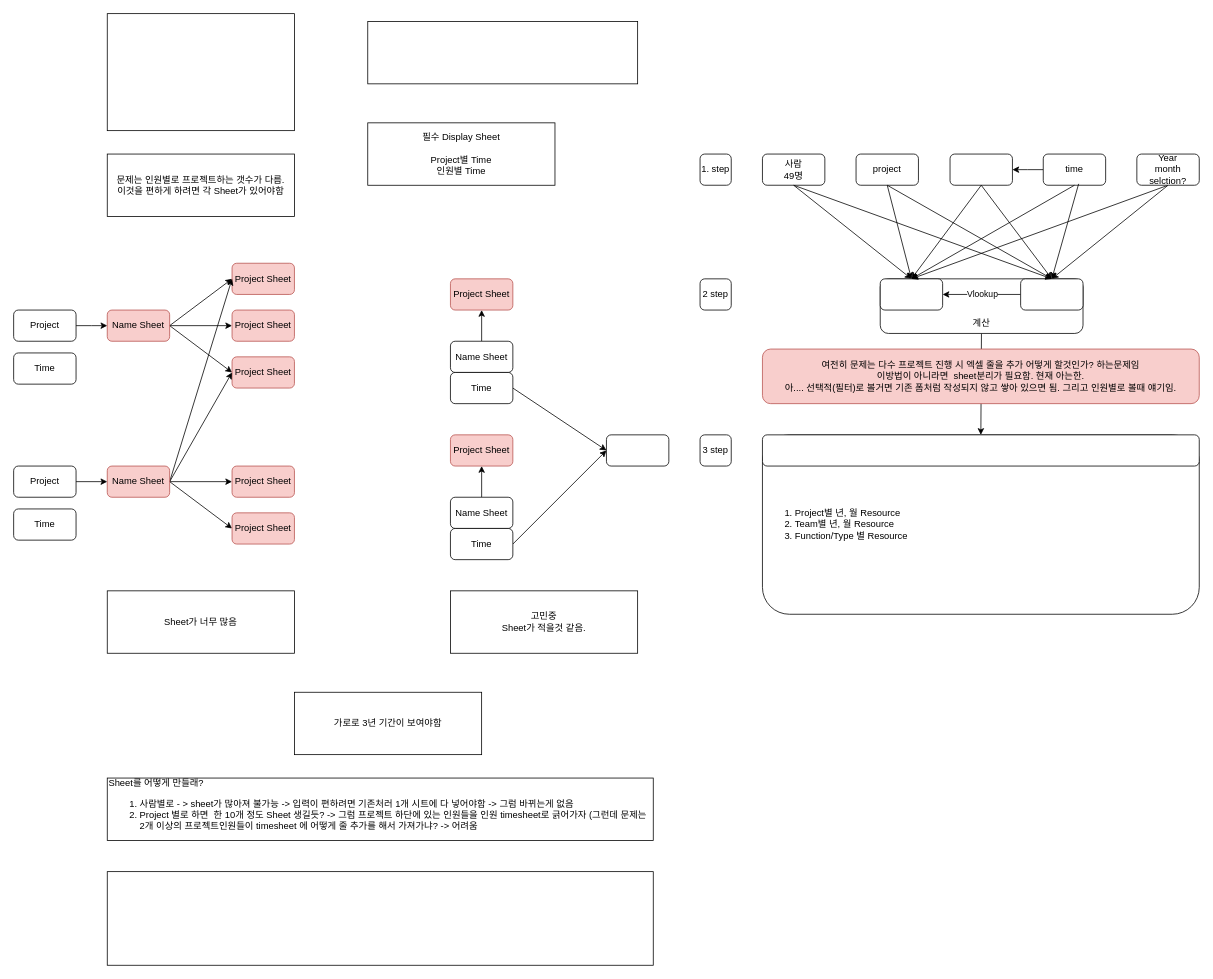
This 1213x979 diagram has some shape labels left out. The box of each missing label's shape, as (x1, y1, x2, y2) in pixels:
Display: (762, 434, 1199, 466)
function type: (949, 153, 1012, 185)
Project table: (879, 278, 943, 310)
Resource Sheet: (606, 434, 669, 466)
Team table: (1020, 278, 1083, 310)
다른점 기존 Excel 처럼 전체를 어떻게 보는지 필요함. ??? forecast 가능한가?: (106, 871, 653, 965)
인원에 Time 을 넣으면 Project 로 가는가? 프로젝트에 인원과 시간을 넣어야 하는가?: (367, 21, 638, 84)
필수로 입력해야 하는 조건 Time 입력 Project 입력 사람 입력: (106, 13, 294, 131)
